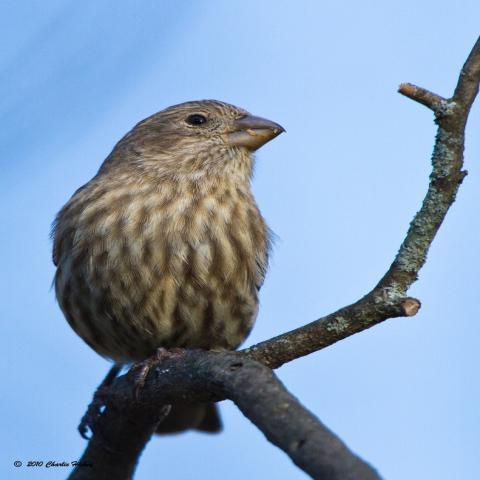bird: (48, 97, 287, 436)
